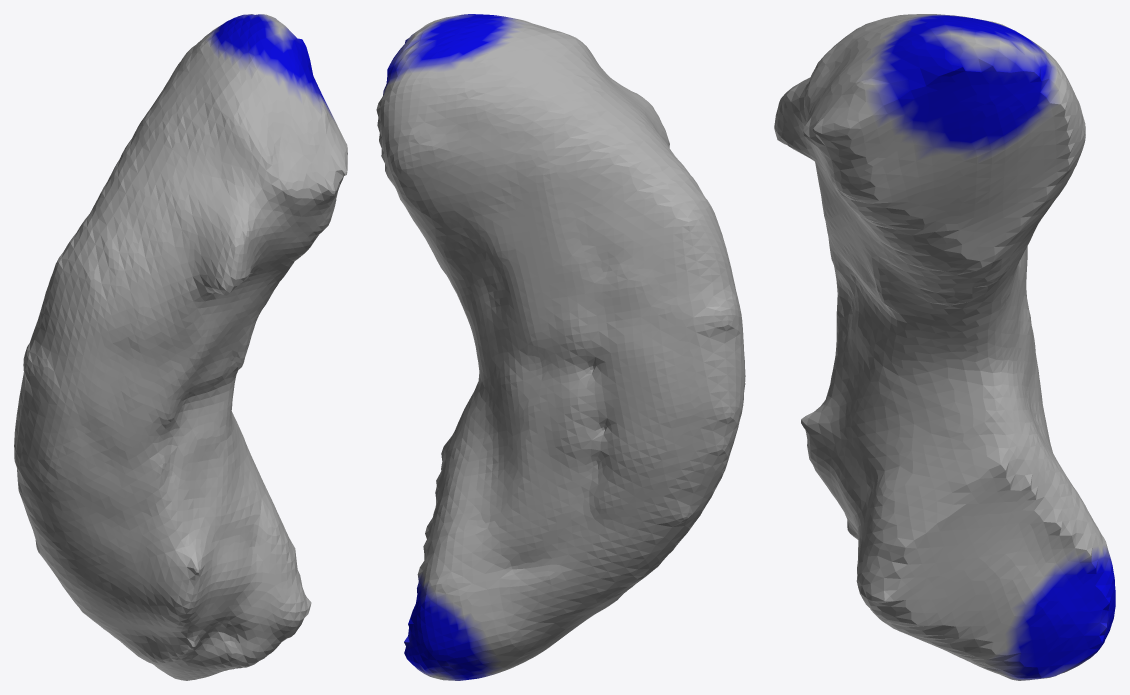
The model's file is guard_cell_flat_near_sharp.obj.
3 views of the same model, side by side, from view 1: azimuth 30°, elevation 25°; view 2: azimuth 150°, elevation 25°; view 3: azimuth 270°, elevation 25° (orthographic). The views are drawn at different scales.
Size of the model in its own units: 20.87 by 42.34 by 19.52.
